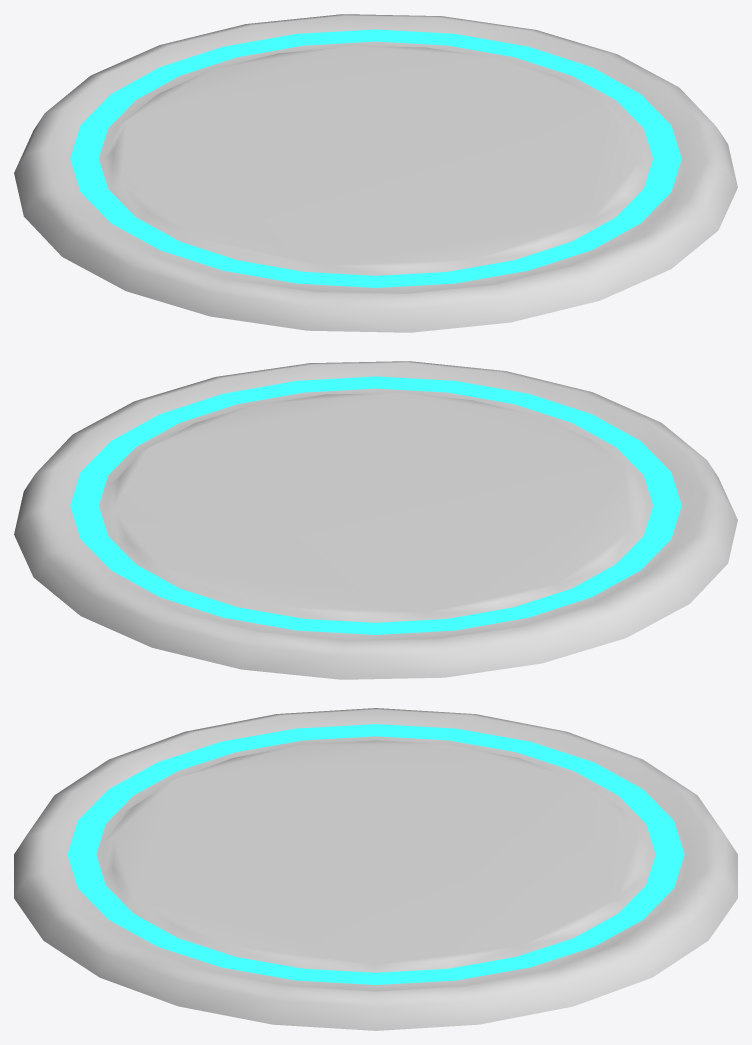
The model's file is Hub_CleanBoothPad.fbx.
3 views of the same model, one above another, from view 1: azimuth 30°, elevation 25°; view 2: azimuth 150°, elevation 25°; view 3: azimuth 270°, elevation 25° (orthographic).
Parts seen in each view (by area): view 1: CleanBoothPad_Body, CleanBoothPad_Glow; view 2: CleanBoothPad_Body, CleanBoothPad_Glow; view 3: CleanBoothPad_Body, CleanBoothPad_Glow.
Part boxes in pixels (box(x1,y1,x2,y2)): CleanBoothPad_Body: box(14, 14, 737, 332); CleanBoothPad_Glow: box(70, 29, 681, 287); CleanBoothPad_Body: box(14, 361, 737, 679); CleanBoothPad_Glow: box(70, 376, 681, 634); CleanBoothPad_Body: box(14, 708, 737, 1030); CleanBoothPad_Glow: box(67, 724, 684, 984).
Size of the model in its own units: 9.1 by 0.35 by 9.01.
